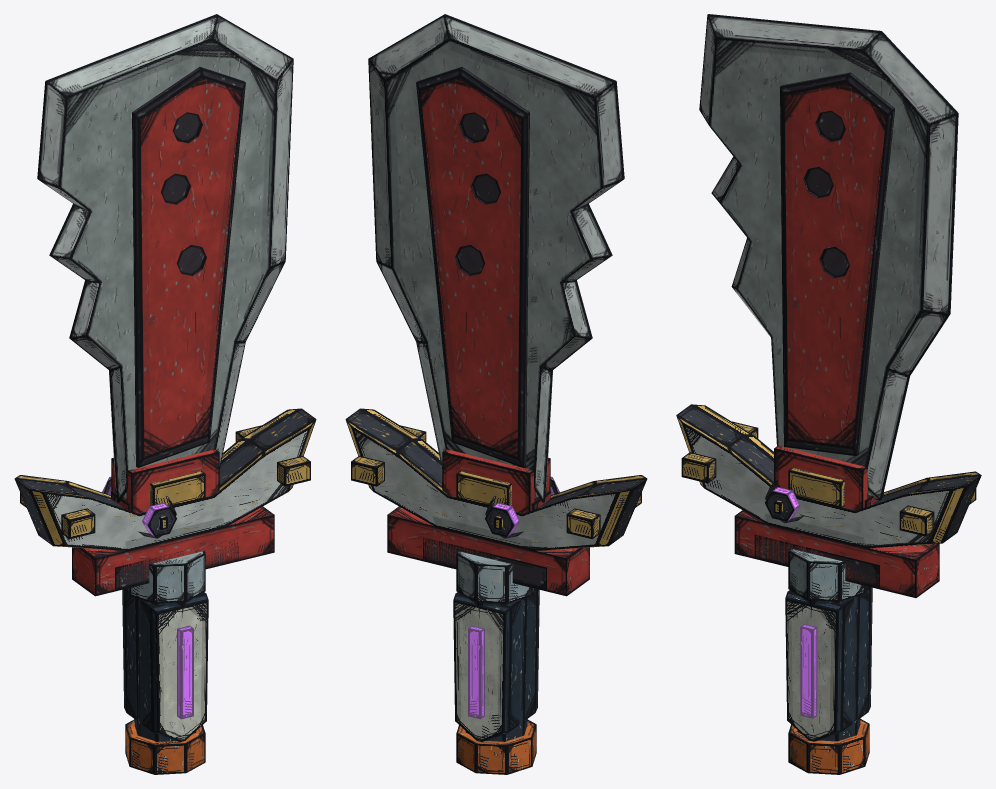
The model's file is 07_Slag_Cleaver.glb.
The picture shows the model from 3 angles, left to right: view 1: azimuth 30°, elevation 25°; view 2: azimuth 150°, elevation 25°; view 3: azimuth 330°, elevation 25°; orthographic projection.
Visible parts, largest first — view 1: blade_bandit, accessory_flared_cleave_guard, grip_maliwan, FACE_FRONT; view 2: blade_bandit, accessory_flared_cleave_guard, grip_maliwan, FACE_BACK; view 3: blade_bandit, accessory_flared_cleave_guard, grip_maliwan, FACE_FRONT.
Part boxes in pixels (bbox=[...]): blade_bandit: bbox=[37, 14, 293, 596]; accessory_flared_cleave_guard: bbox=[14, 408, 316, 550]; grip_maliwan: bbox=[122, 551, 208, 774]; FACE_FRONT: bbox=[138, 498, 176, 538]; blade_bandit: bbox=[368, 14, 624, 596]; accessory_flared_cleave_guard: bbox=[345, 408, 647, 550]; grip_maliwan: bbox=[453, 551, 539, 774]; FACE_BACK: bbox=[485, 498, 523, 538]; blade_bandit: bbox=[699, 14, 958, 597]; accessory_flared_cleave_guard: bbox=[676, 404, 981, 548]; grip_maliwan: bbox=[785, 548, 872, 774]; FACE_FRONT: bbox=[765, 480, 803, 523].
Size of the model in its own units: 0.72 by 1.75 by 0.2175.
6 materials, 6 textured.
